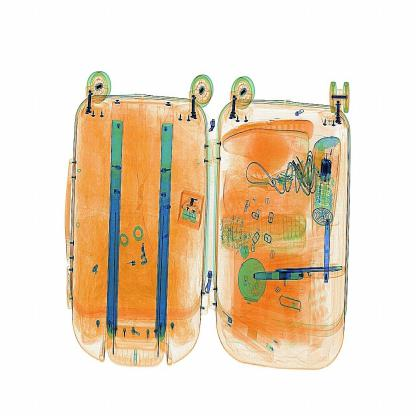pliers: (277, 264, 348, 280)
